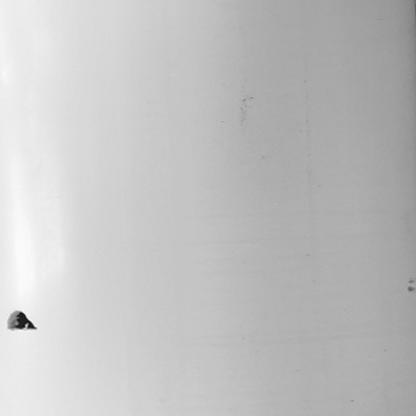kongdong: (1, 309, 50, 330)
